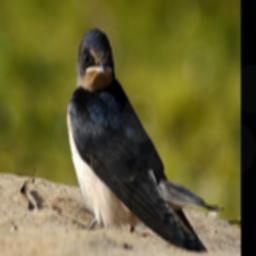Swallow: (65, 28, 224, 251)
